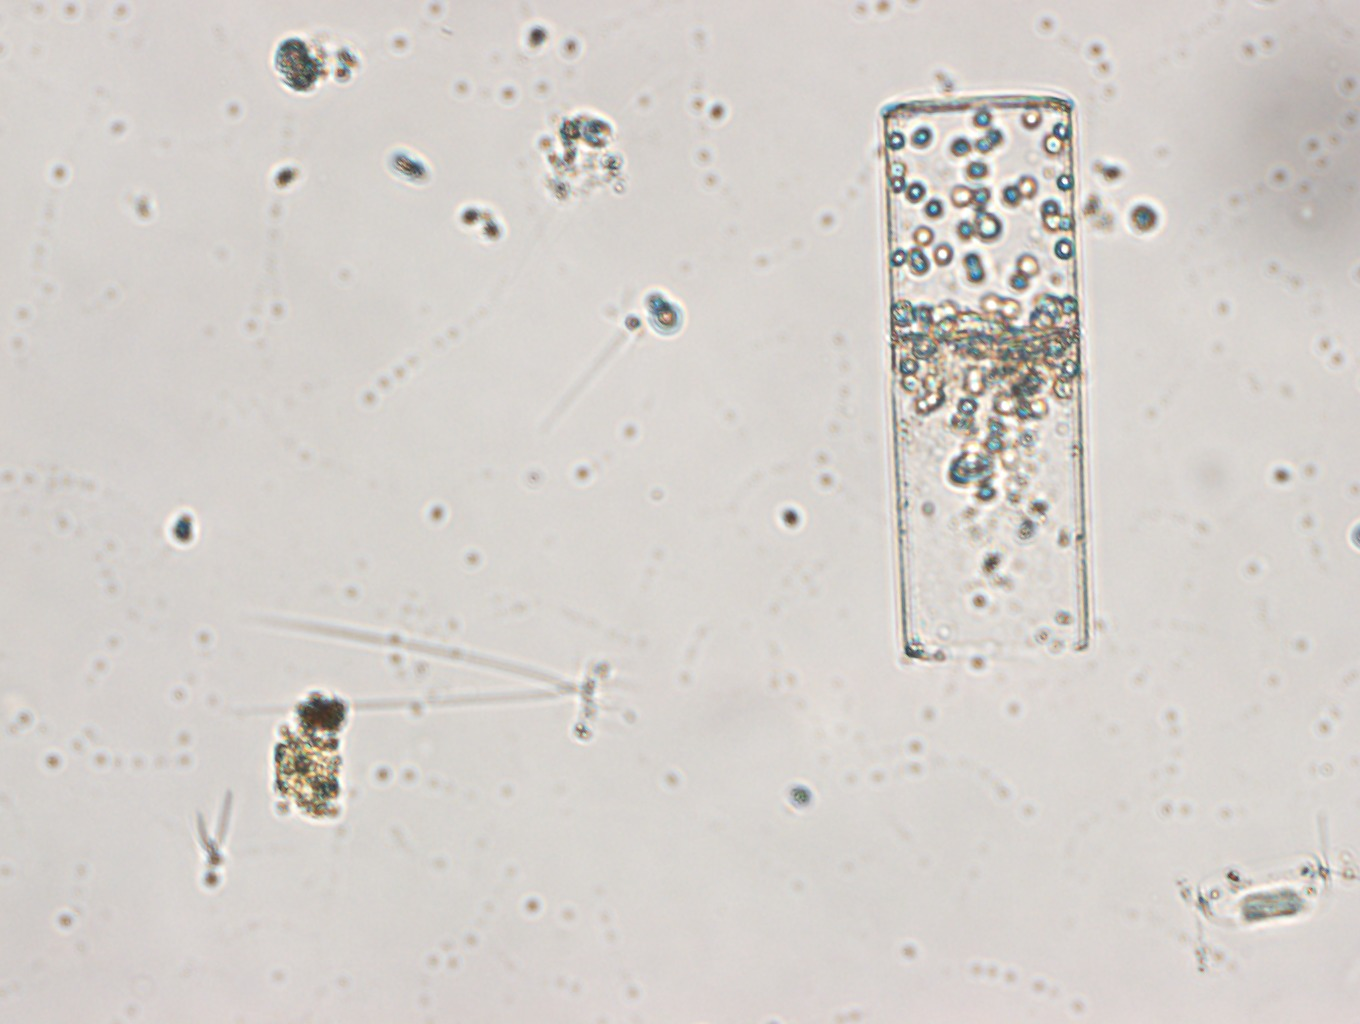guinardia flaccida: (883, 93, 1092, 658)
